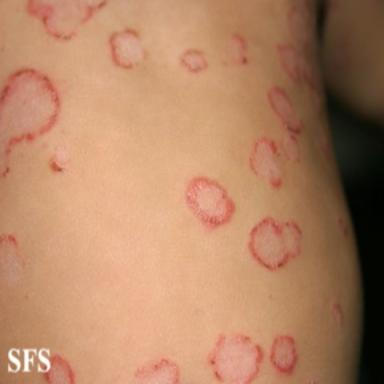Impetigo: (277, 2, 332, 159), (0, 69, 59, 176), (28, 0, 106, 39), (249, 217, 301, 270), (209, 335, 262, 383), (269, 86, 302, 160), (186, 177, 235, 226), (250, 137, 281, 187), (109, 28, 145, 68), (0, 235, 25, 286), (135, 359, 178, 383), (271, 336, 296, 372), (227, 34, 247, 65), (181, 50, 207, 72), (50, 147, 69, 172)
